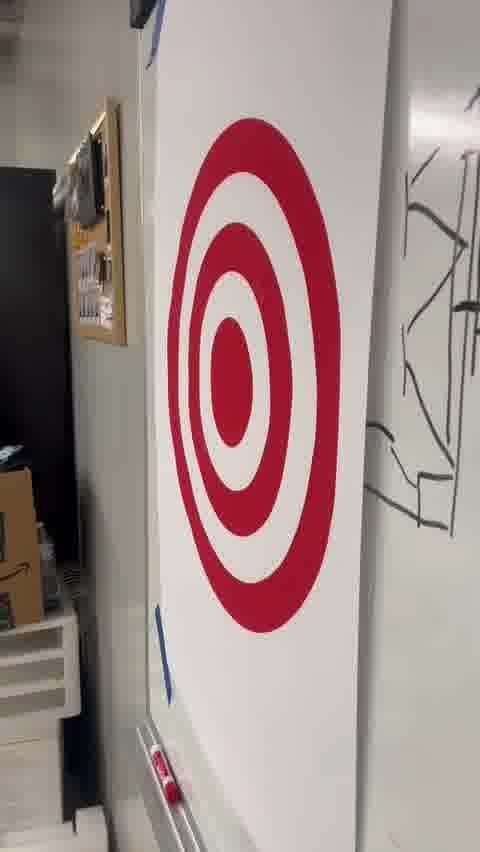target_red: (168, 116, 342, 635)
